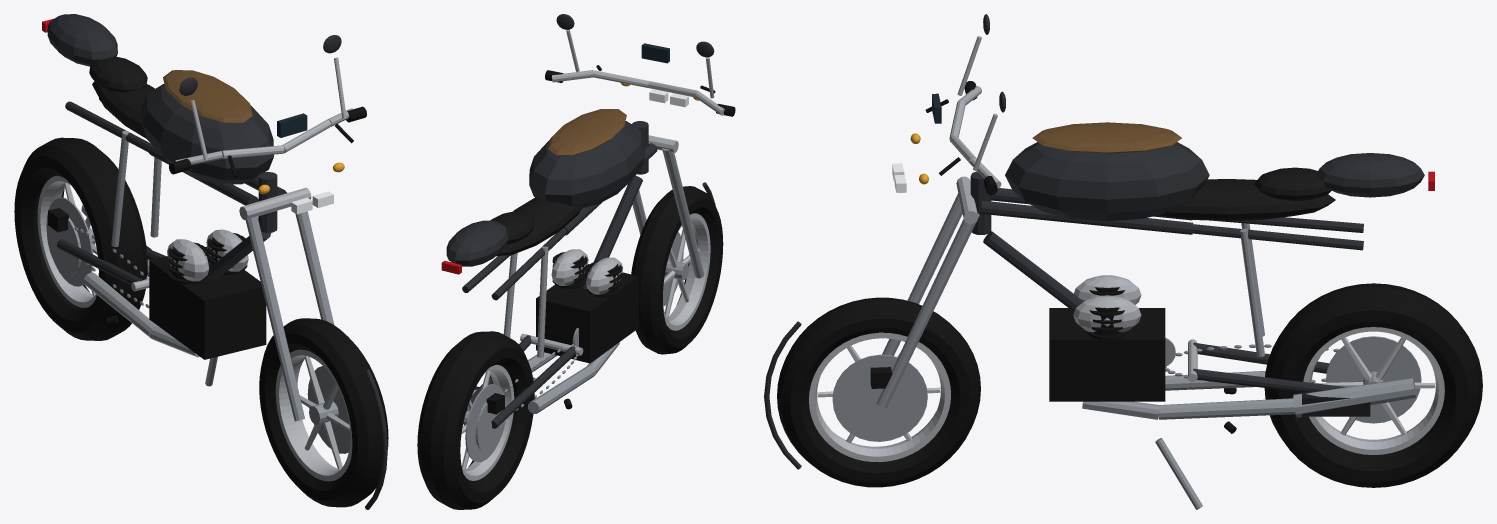
File: Motorbike.glb
3 views of the same model, side by side, from view 1: azimuth 30°, elevation 25°; view 2: azimuth 150°, elevation 25°; view 3: azimuth 270°, elevation 25° (orthographic). The views are drawn at different scales.
Visible parts, largest first — view 1: Tyre.001, Tyre, EngineBlock, FuelTank, Rim, TankBronzeStripe, TailSection, ForkLeg.001, Rim.001, Header.001, PassengerSeat, RiderSaddle (+19 smaller); view 2: Tyre.001, Tyre, FuelTank, EngineBlock, TankBronzeStripe, TailSection, RiderSaddle, Rim, ForkLeg.001, Rim.001, Header.001, DownTube (+15 smaller); view 3: Tyre.001, Tyre, FuelTank, EngineBlock, BrakeDisc, RiderSaddle, Rim, TailSection, TankBronzeStripe, BrakeDisc.001, Rim.001, Header (+16 smaller).
Boxes of the visible parts, x1=… form: Tyre.001: x1=14, y1=137, x2=147, y2=340; Tyre: x1=259, y1=318, x2=388, y2=507; EngineBlock: x1=149, y1=246, x2=266, y2=359; FuelTank: x1=141, y1=84, x2=273, y2=184; Rim: x1=275, y1=349, x2=352, y2=481; TankBronzeStripe: x1=163, y1=70, x2=252, y2=122; TailSection: x1=47, y1=14, x2=117, y2=66; ForkLeg.001: x1=245, y1=216, x2=304, y2=421; Rim.001: x1=37, y1=175, x2=96, y2=307; Header.001: x1=84, y1=272, x2=199, y2=357; PassengerSeat: x1=89, y1=56, x2=147, y2=92; RiderSaddle: x1=92, y1=81, x2=154, y2=138; Tyre.001: x1=417, y1=331, x2=534, y2=509; Tyre: x1=631, y1=186, x2=723, y2=354; FuelTank: x1=529, y1=121, x2=645, y2=208; EngineBlock: x1=536, y1=264, x2=638, y2=363; TankBronzeStripe: x1=548, y1=109, x2=626, y2=155; TailSection: x1=446, y1=220, x2=508, y2=266; RiderSaddle: x1=496, y1=197, x2=582, y2=256; Rim: x1=663, y1=213, x2=710, y2=330; ForkLeg.001: x1=662, y1=148, x2=704, y2=278; Rim.001: x1=462, y1=364, x2=514, y2=480; Header.001: x1=528, y1=342, x2=619, y2=413; DownTube: x1=583, y1=175, x2=642, y2=288; Tyre.001: x1=1264, y1=283, x2=1482, y2=487; Tyre: x1=777, y1=297, x2=980, y2=487; FuelTank: x1=1005, y1=142, x2=1209, y2=221; EngineBlock: x1=1049, y1=308, x2=1165, y2=401; BrakeDisc: x1=832, y1=354, x2=927, y2=441; RiderSaddle: x1=1157, y1=179, x2=1335, y2=220; Rim: x1=809, y1=332, x2=950, y2=462; TailSection: x1=1316, y1=153, x2=1424, y2=197; TankBronzeStripe: x1=1032, y1=122, x2=1181, y2=153; BrakeDisc.001: x1=1326, y1=336, x2=1421, y2=423; Rim.001: x1=1303, y1=327, x2=1444, y2=454; Header: x1=1082, y1=398, x2=1295, y2=419.
Bounding box in the file's own units: 0.7204 × 1.4 × 2.11.
